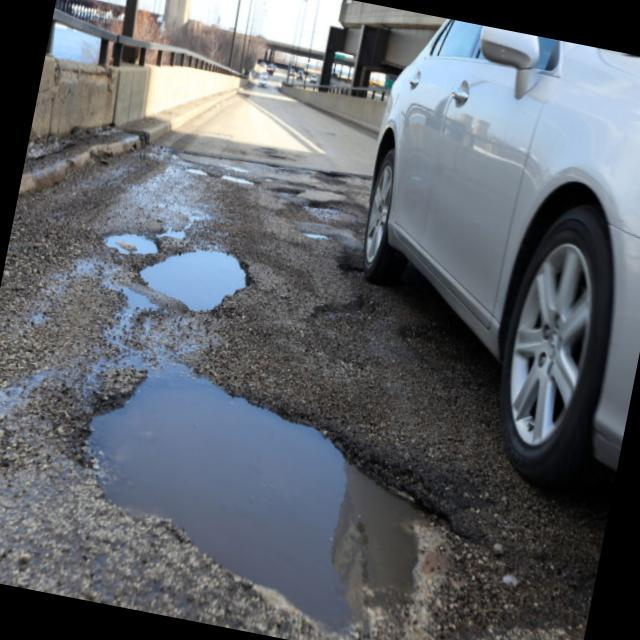Pothole: (27, 320, 602, 640), (128, 235, 260, 322), (90, 208, 166, 264), (176, 160, 230, 199), (216, 164, 258, 195), (271, 185, 301, 203), (298, 234, 324, 253)
